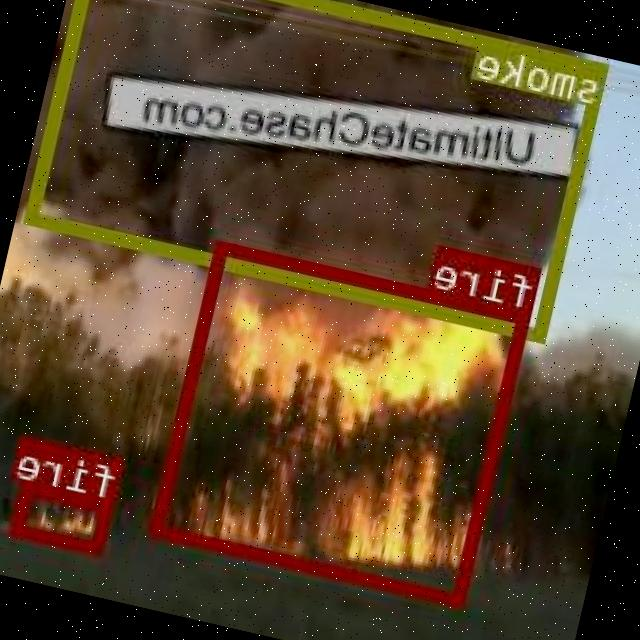fire: (153, 239, 534, 606), (13, 479, 118, 554)
smoke: (28, 0, 611, 341)
